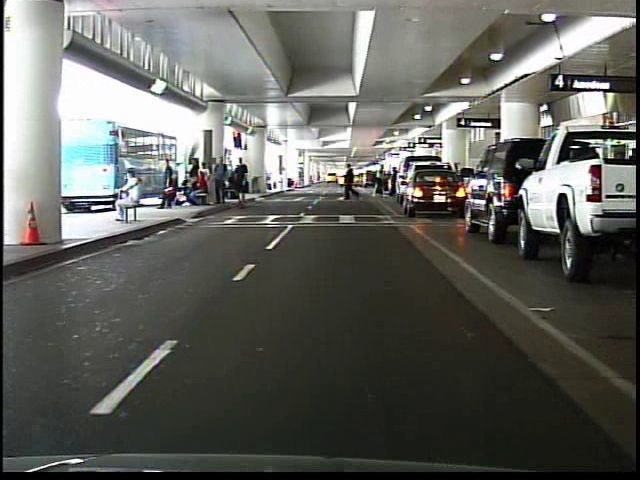person: (102, 166, 147, 227), (155, 156, 178, 212), (343, 161, 362, 205), (374, 160, 389, 197)
